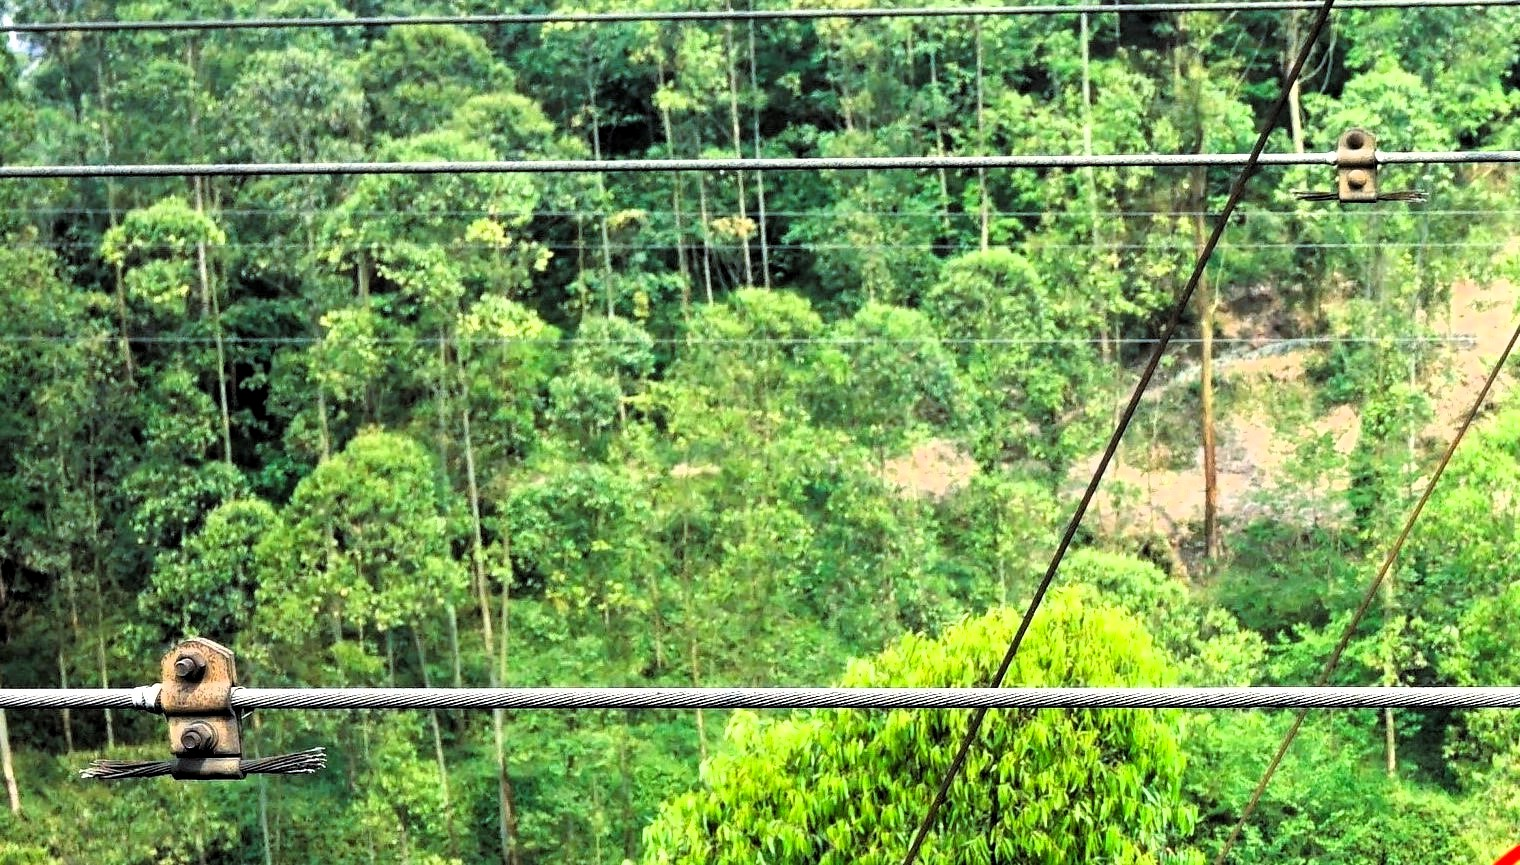Damage of shockproof hammer: (68, 628, 345, 812), (1282, 118, 1439, 218)
